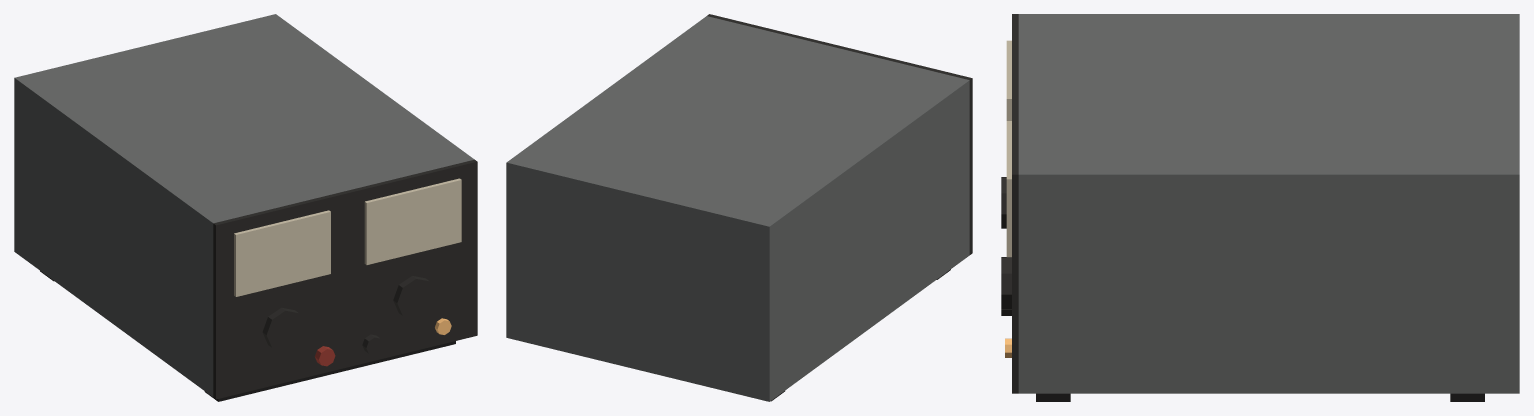
Rendered from bench-psu.glb.
The picture shows the model from 3 angles, left to right: view 1: azimuth 30°, elevation 25°; view 2: azimuth 150°, elevation 25°; view 3: azimuth 270°, elevation 25°; orthographic projection. The views are drawn at different scales.
Parts seen in each view (by area): view 1: metal, plastic-dark, paper, rubber; view 2: metal, plastic-dark; view 3: metal, plastic-dark, paper, rubber.
Part boxes in pixels (box(x1,y1,x2,y2)): metal: box(14, 14, 474, 396); plastic-dark: box(213, 159, 477, 399); paper: box(234, 178, 461, 296); rubber: box(40, 271, 455, 401); metal: box(506, 16, 969, 401); plastic-dark: box(707, 14, 972, 254); metal: box(1018, 14, 1519, 393); plastic-dark: box(1001, 14, 1018, 393); paper: box(1006, 40, 1011, 257); rubber: box(1036, 393, 1484, 401).
Bounding box in the file's own units: 0.22 × 0.15 × 0.3.
